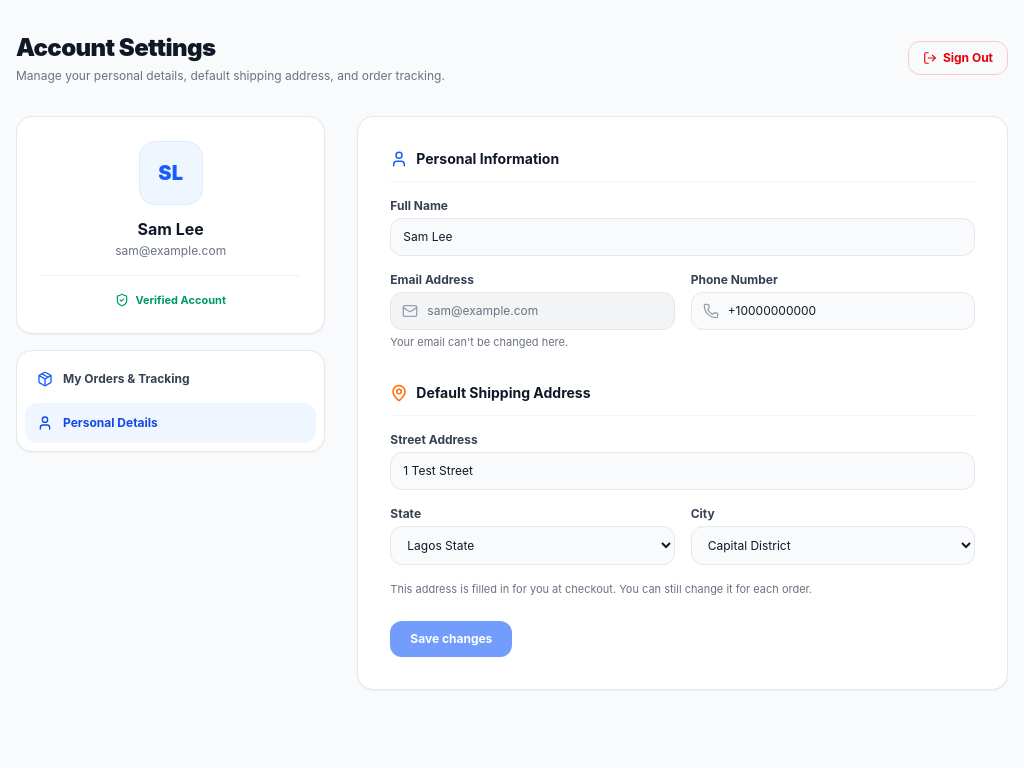
Test: Profile page › validation › refuses an empty name, shows why next to the field, and sends nothing
This screenshot has width=1024, height=768.
Clear the field labelled "Full Name" at (683, 237), box [390,218,975,256]
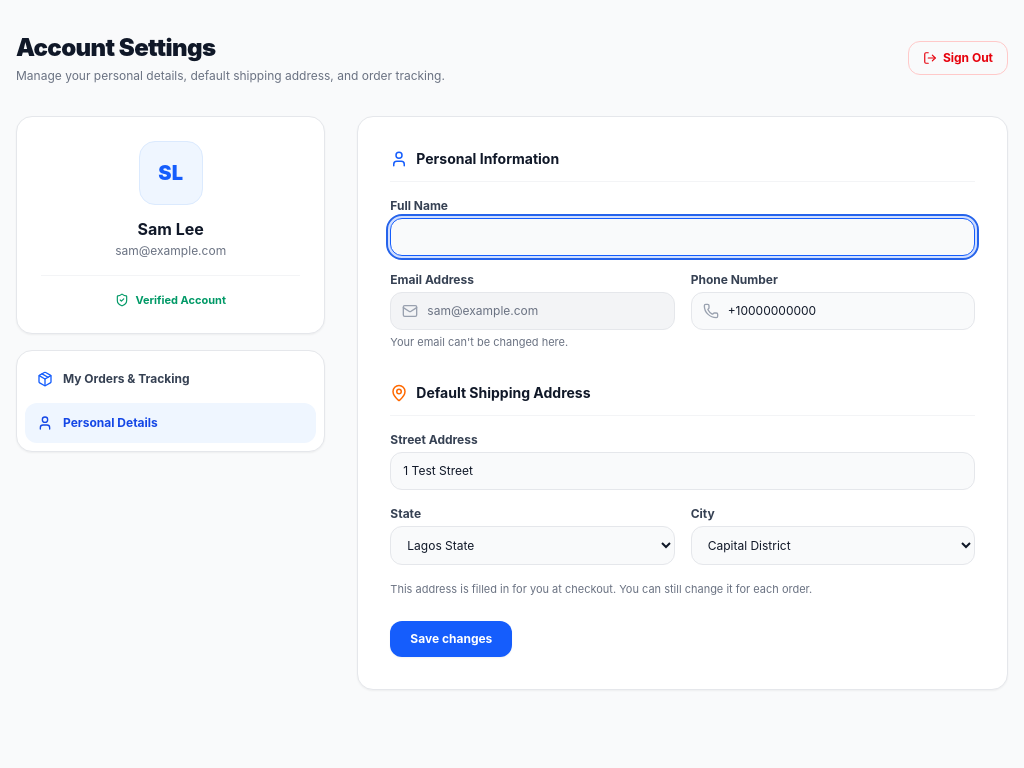
Click the button "Save changes" at (451, 639), box [390,621,512,657]
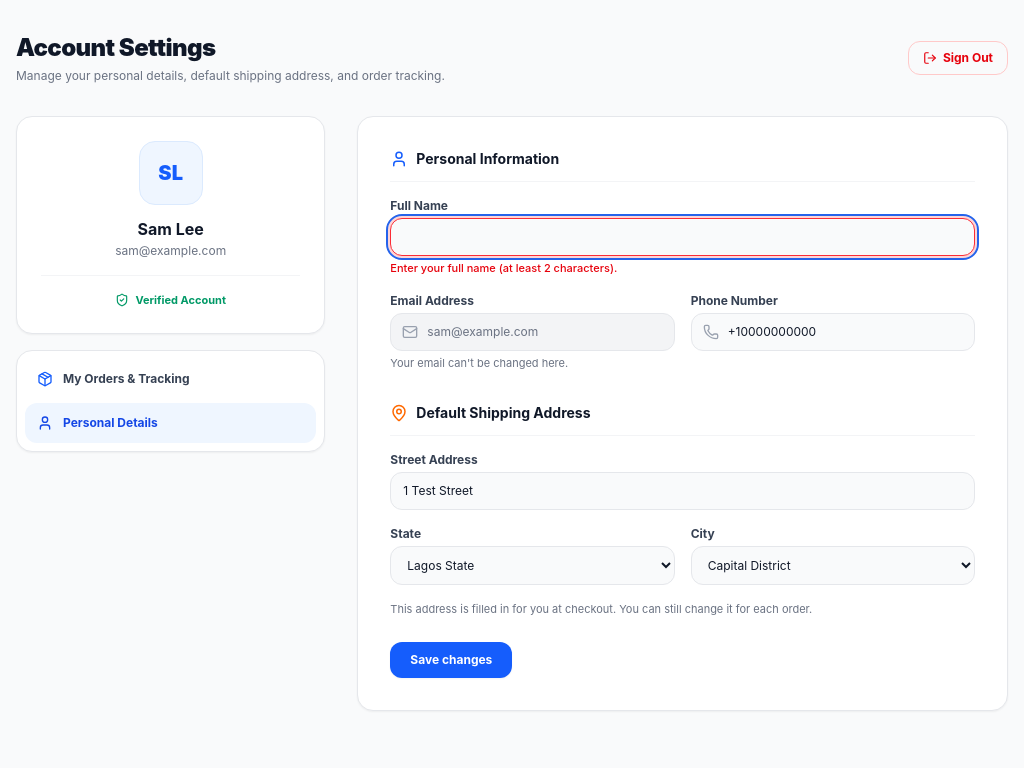
Now the text "Enter your full name (at least 2 characters)." is shown, box [390,261,617,275]
